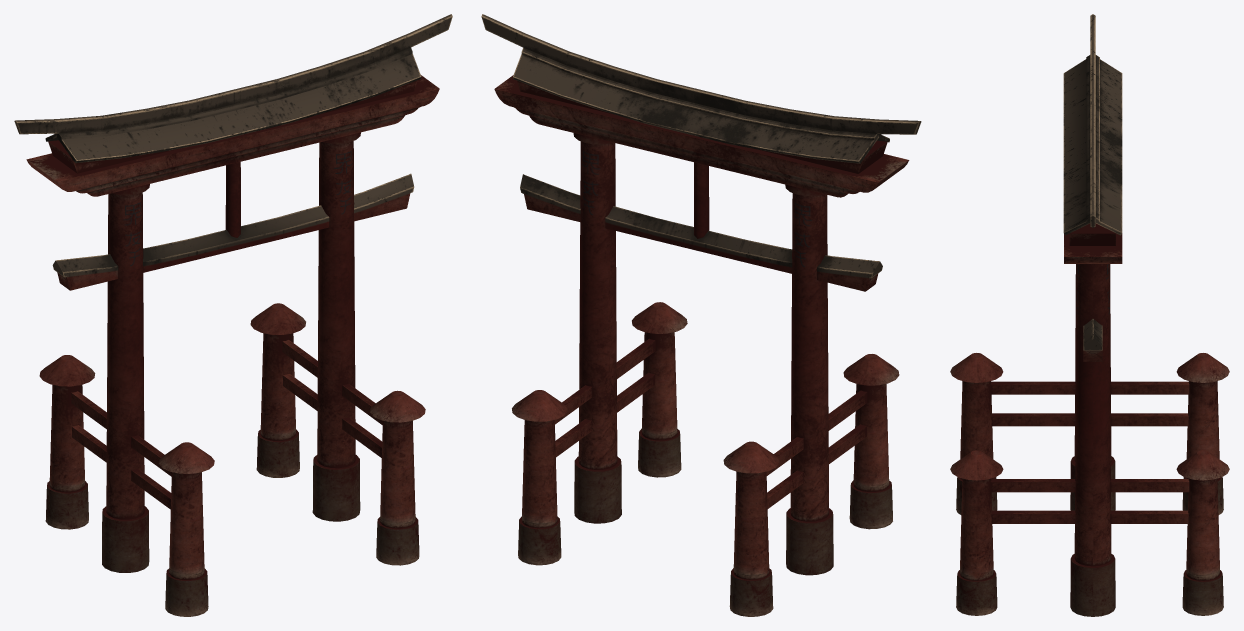
File: Torii.obj
The picture shows the model from 3 angles, left to right: view 1: azimuth 30°, elevation 25°; view 2: azimuth 150°, elevation 25°; view 3: azimuth 270°, elevation 25°; orthographic projection. The views are drawn at different scales.
Visible parts, largest first — view 1: Gate, Peg1, Peg2, Barrier1, Barrier2; view 2: Gate, Peg2, Peg1, Barrier2, Barrier1; view 3: Gate, Peg2, Peg1, Barrier1, Barrier2.
Boxes of the visible parts, <box> form: Gate: <box>14,14,452,572</box>; Peg1: <box>159,390,425,616</box>; Peg2: <box>39,303,305,529</box>; Barrier1: <box>71,391,171,509</box>; Barrier2: <box>282,340,382,457</box>; Gate: <box>481,14,921,575</box>; Peg2: <box>512,390,779,616</box>; Peg1: <box>632,302,899,529</box>; Barrier2: <box>554,338,655,457</box>; Barrier1: <box>766,390,867,508</box>; Gate: <box>1063,14,1122,616</box>; Peg2: <box>1176,353,1229,615</box>; Peg1: <box>950,353,1003,615</box>; Barrier1: <box>990,381,1189,426</box>; Barrier2: <box>990,479,1189,523</box>.
Size of the model in its own units: 1.08 by 1.11 by 0.6299.
Materials: 1 (1 with a texture image).
